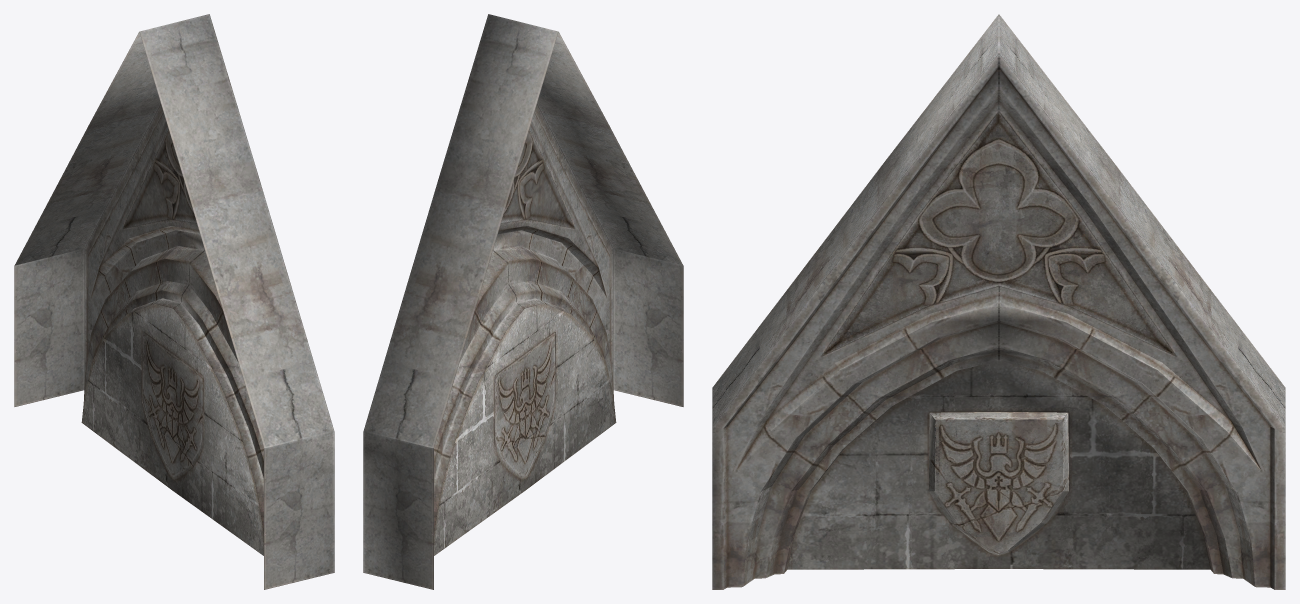
Rendered from bg_lut_lucastle_churchtower08a_sm_ksh.FBX.
3 renders of one model, left to right at view 1: azimuth 30°, elevation 25°; view 2: azimuth 150°, elevation 25°; view 3: azimuth 270°, elevation 25°, orthographic. The views are drawn at different scales.
Visible parts, largest first — view 1: bg_lut_lucastle_churchtower08a_sm_ksh; view 2: bg_lut_lucastle_churchtower08a_sm_ksh; view 3: bg_lut_lucastle_churchtower08a_sm_ksh.
Part boxes in pixels (x1=…): bg_lut_lucastle_churchtower08a_sm_ksh: x1=14, y1=14, x2=334, y2=589; bg_lut_lucastle_churchtower08a_sm_ksh: x1=363, y1=14, x2=683, y2=589; bg_lut_lucastle_churchtower08a_sm_ksh: x1=712, y1=14, x2=1285, y2=589.
Size of the model in its own units: 41.51 by 262 by 254.
